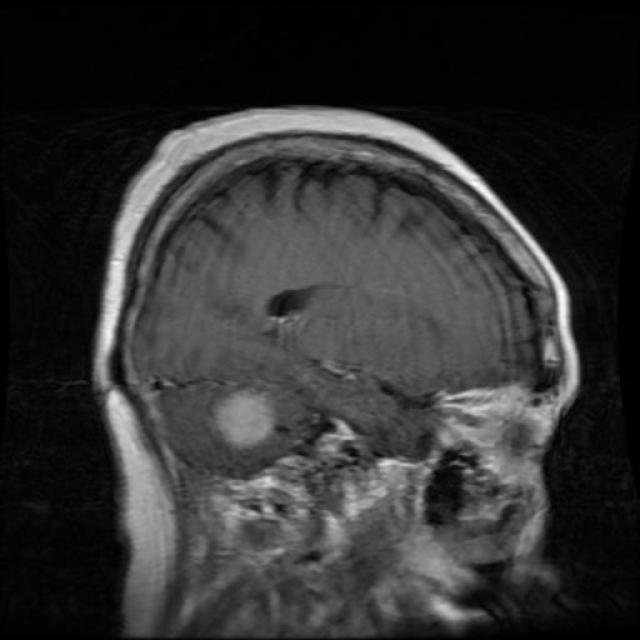meningioma: (211, 386, 275, 446)
